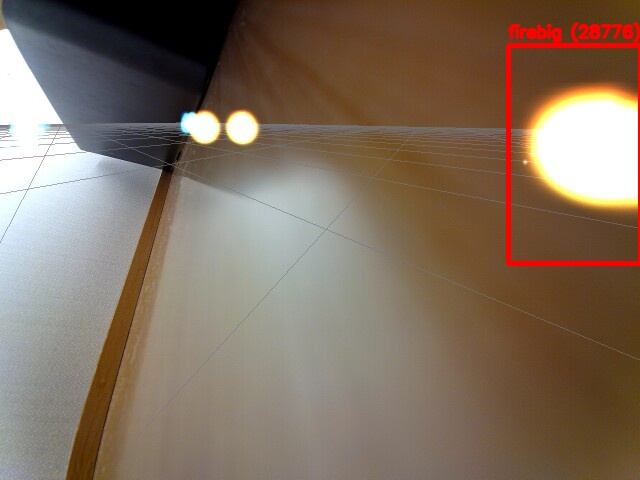firebig: (508, 45, 640, 263)
